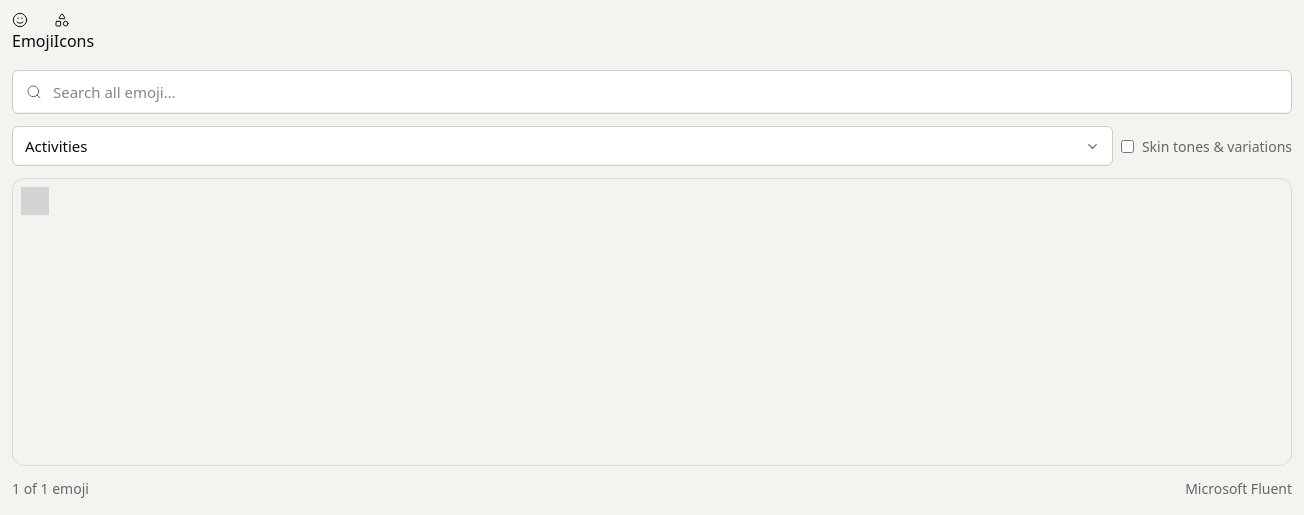
SuitePaletteLibrary › opens each tab on a real category and only searches the whole library
Check: the dropdown named "Emoji category" shows "Activities", box x1=12 y1=126 x2=1113 y2=166
In the search field named "Search emoji": (652, 92) x1=12 y1=70 x2=1292 y2=114, type "party"
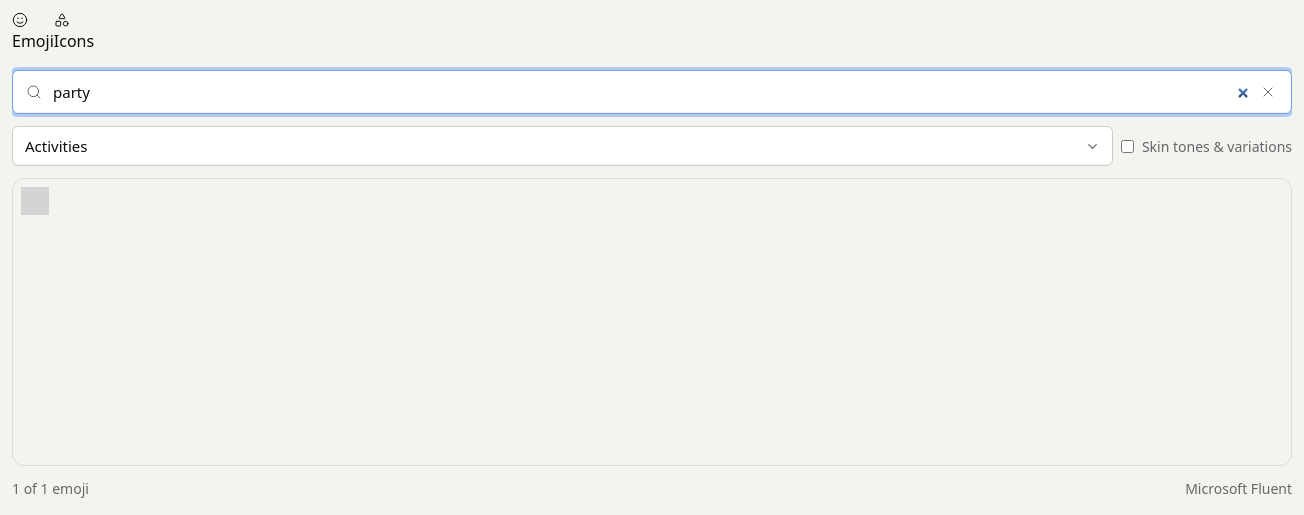
Click the tab "Icons": (74, 33) x1=54 y1=12 x2=94 y2=54
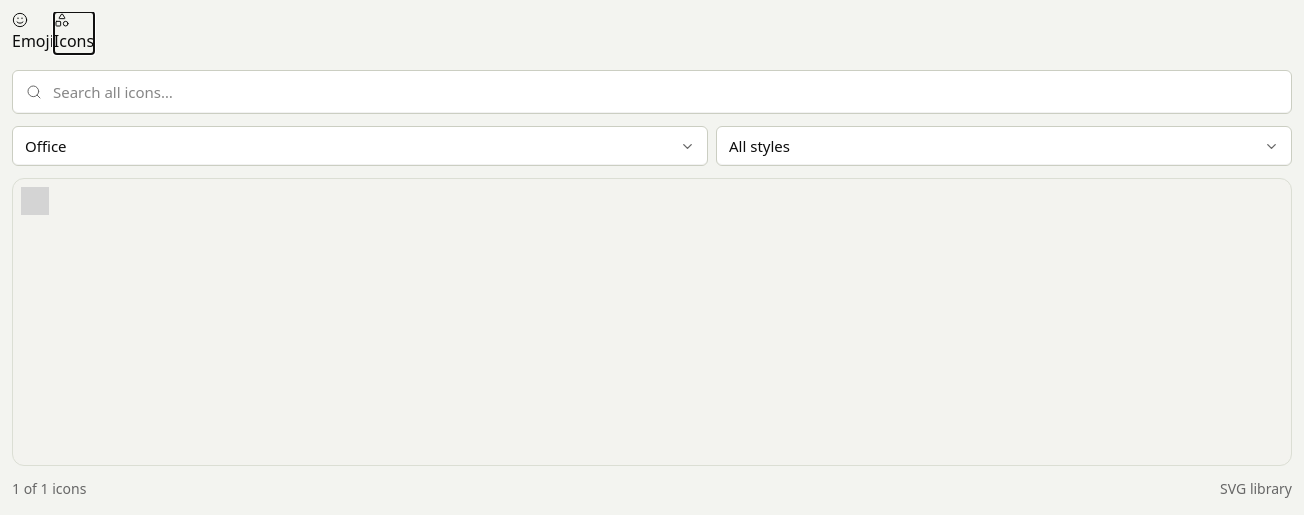
Check: the dropdown named "Icon collection" shows "Office", box x1=12 y1=126 x2=708 y2=166
